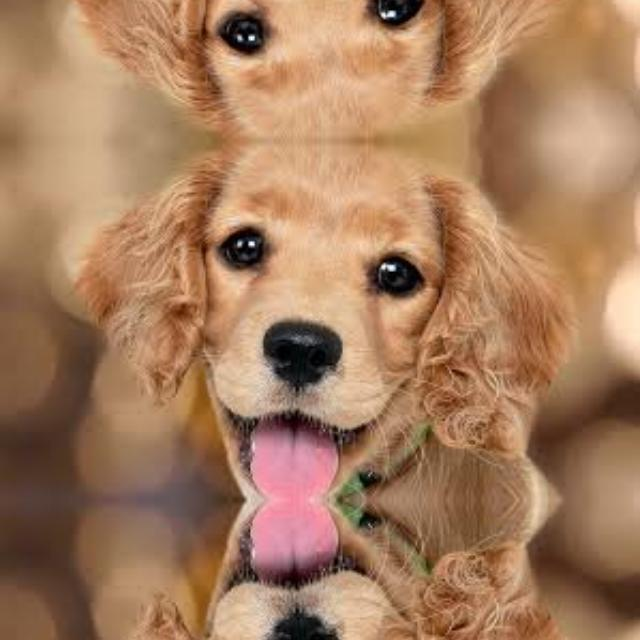dog: (101, 140, 564, 500), (100, 499, 563, 640), (100, 0, 563, 140)
